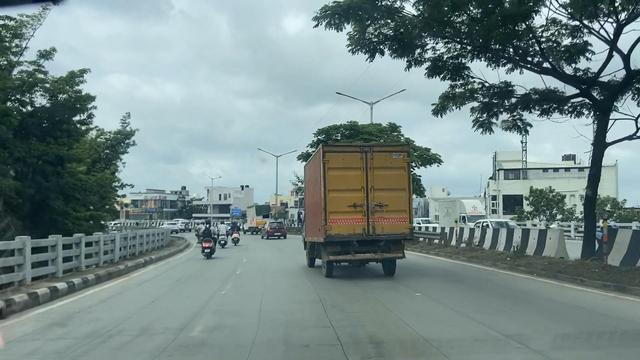HMV: (306, 145, 417, 277)
LMV: (195, 217, 220, 268), (264, 215, 289, 250), (219, 212, 236, 255)
